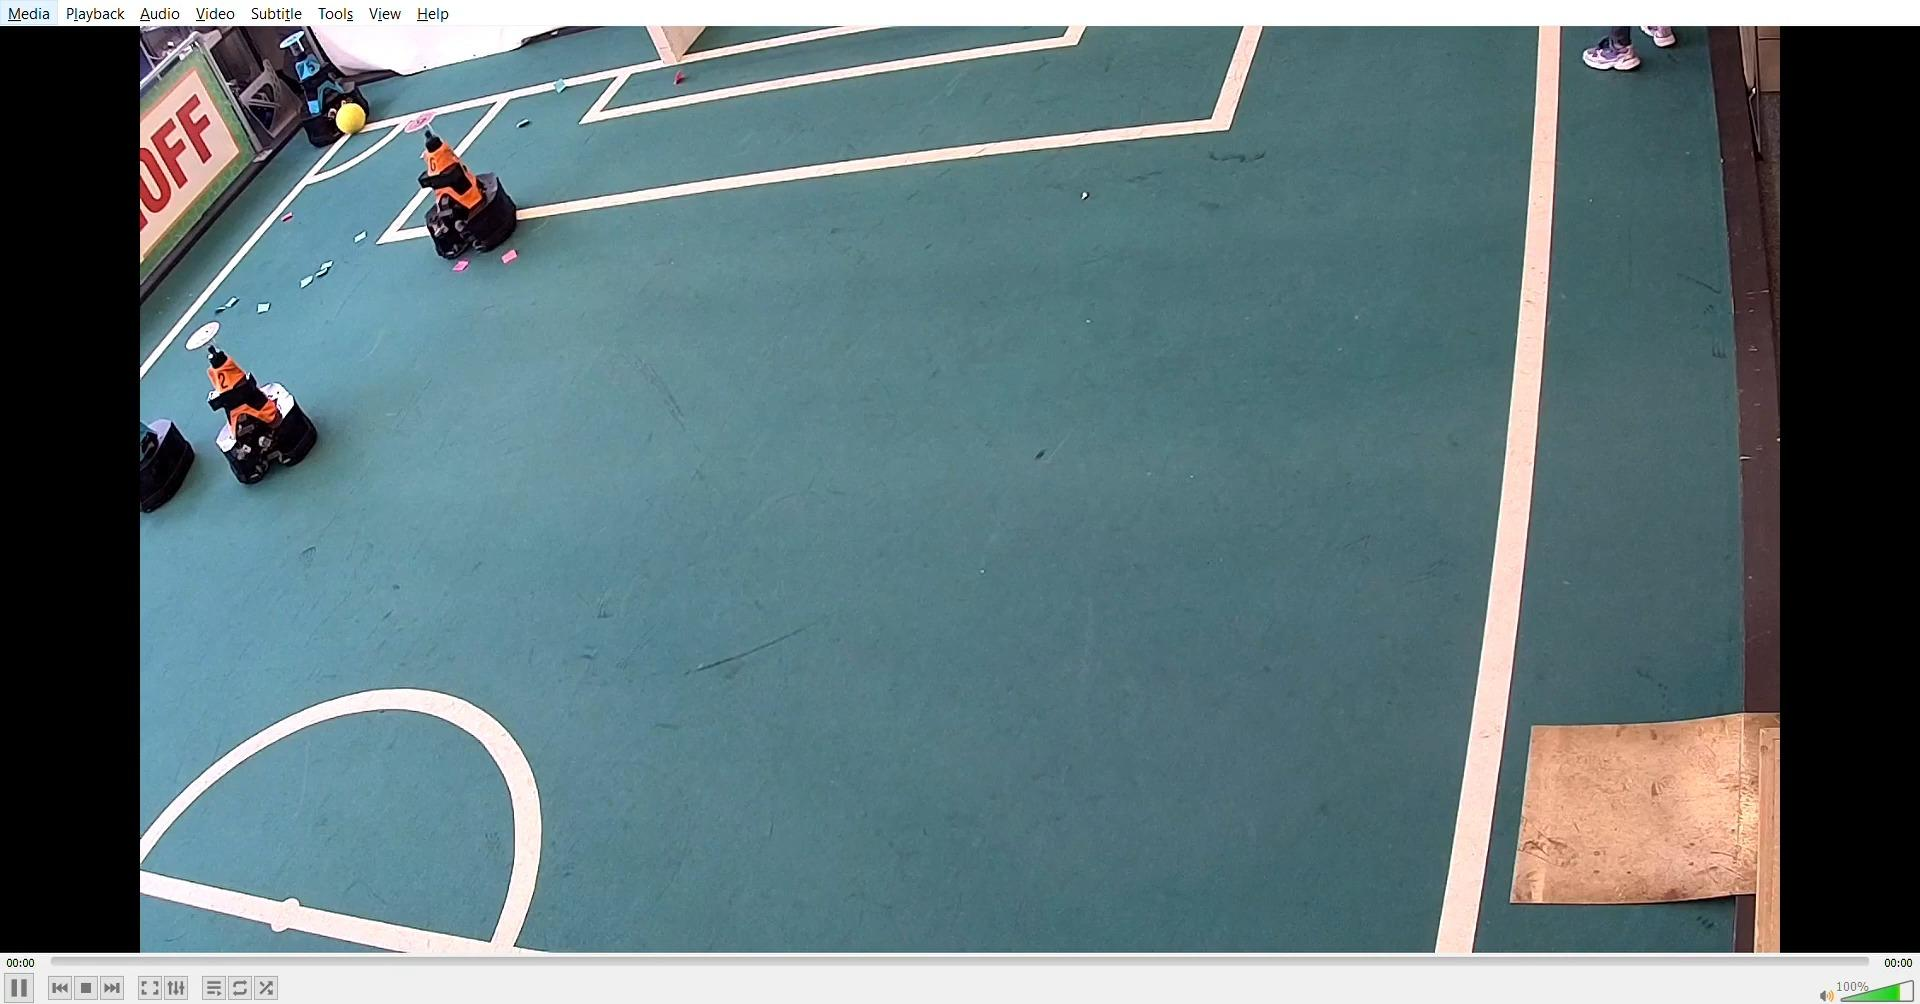Ball: (333, 98, 366, 136)
Team_Blue: (278, 30, 370, 137)
Team_Red: (185, 321, 331, 479), (406, 102, 517, 278)
